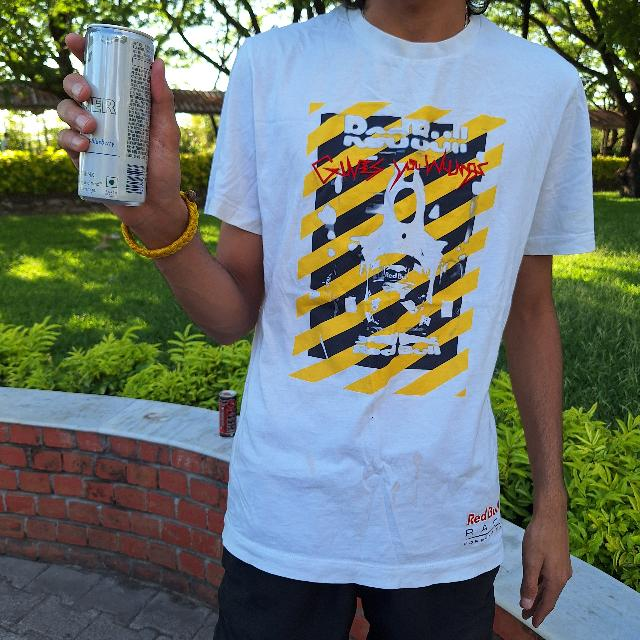Redbull Summer Edition: (77, 29, 153, 209)
